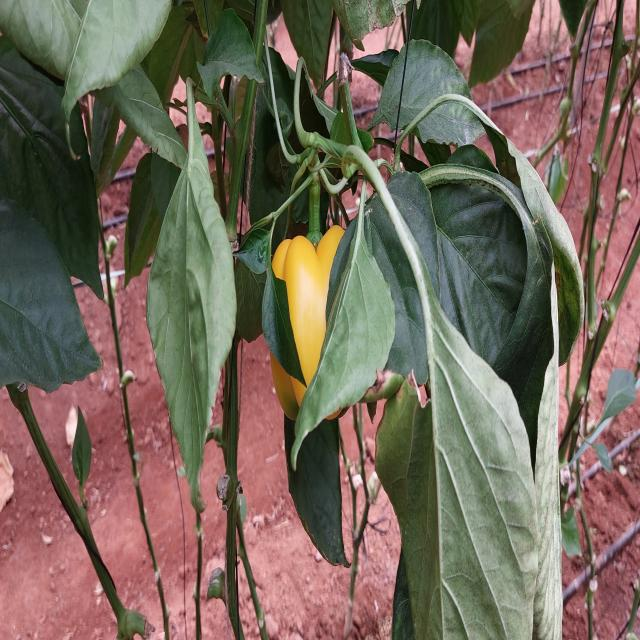Yellow-Ready-to-Harvest: (270, 225, 367, 424)
